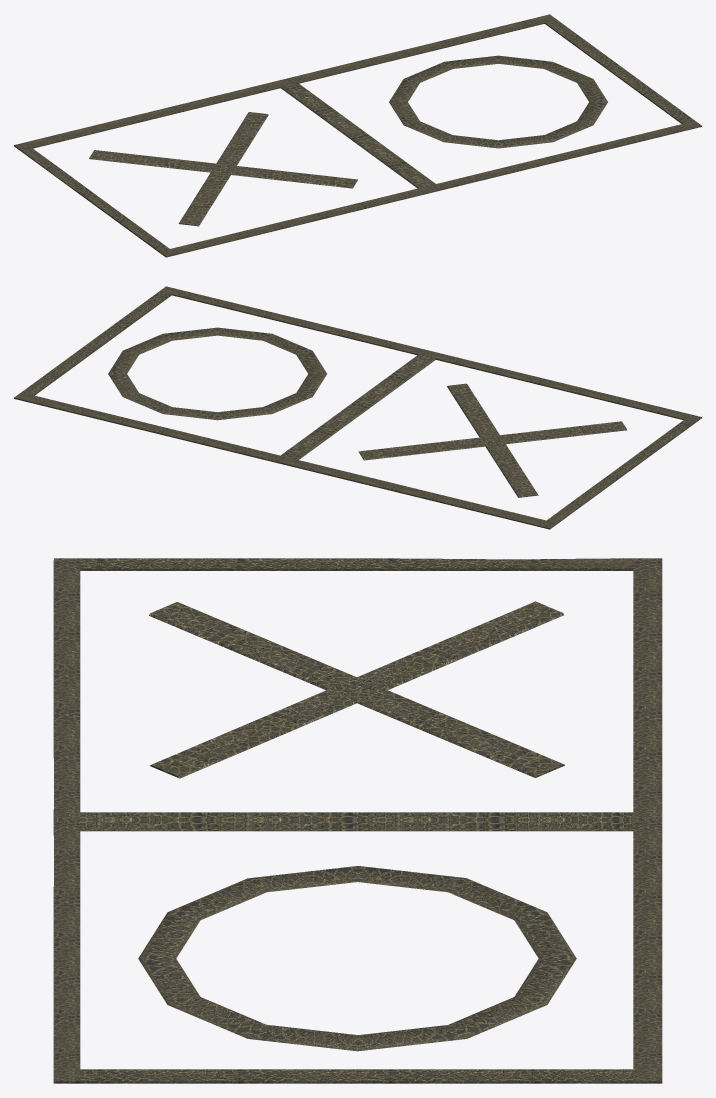
3 views of the same model, one above another, from view 1: azimuth 30°, elevation 25°; view 2: azimuth 150°, elevation 25°; view 3: azimuth 270°, elevation 25° (orthographic). The views are drawn at different scales.
Visible parts, largest first — view 1: Object02; view 2: Object02; view 3: Object02.
Boxes of the visible parts, left/top/right/bottom form: Object02: left=14, top=14, right=701, bottom=257; Object02: left=14, top=286, right=701, bottom=529; Object02: left=53, top=558, right=662, bottom=1083.
Size of the model in its own units: 80.78 by 0.1995 by 39.71.
